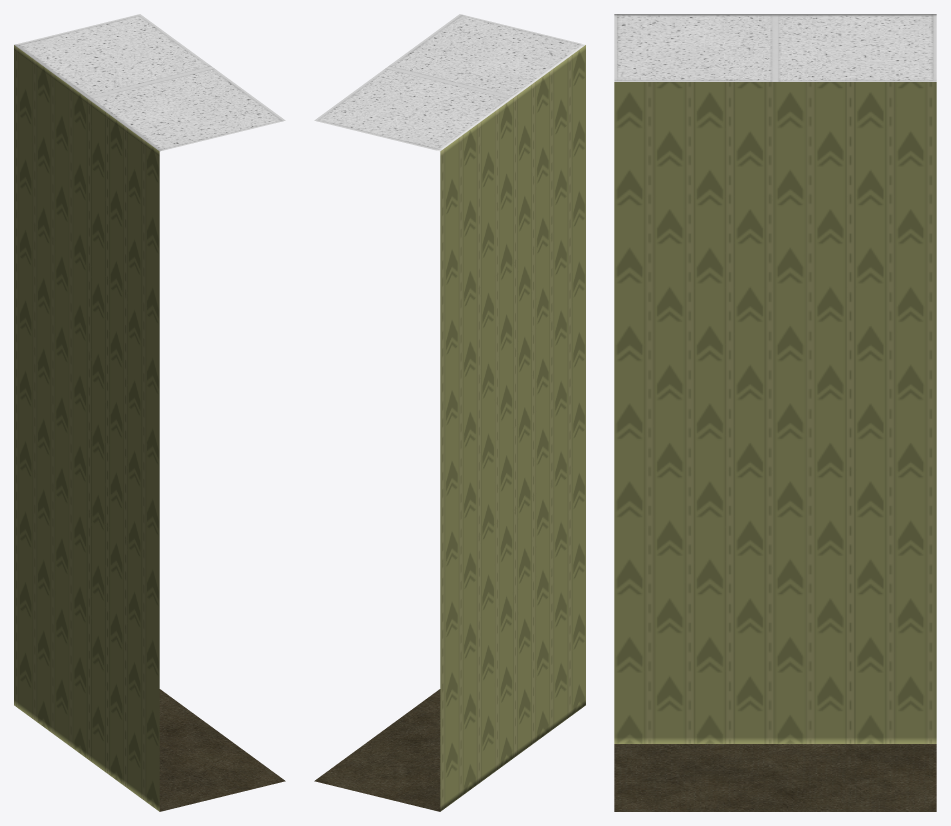
File: TileEdge.gltf
3 renders of one model, left to right at view 1: azimuth 30°, elevation 25°; view 2: azimuth 150°, elevation 25°; view 3: azimuth 270°, elevation 25°, orthographic. The views are drawn at different scales.
Visible parts, largest first — view 1: [intangible]Edge; view 2: [intangible]Edge; view 3: [intangible]Edge.
Boxes of the visible parts, left/top/right/bottom form: [intangible]Edge: left=14, top=14, right=285, bottom=811; [intangible]Edge: left=314, top=14, right=585, bottom=811; [intangible]Edge: left=614, top=14, right=936, bottom=811.
Size of what is drawn, in the model's own units: 0.5 by 2.5 by 1.
Materials: 3 (3 with a texture image).
